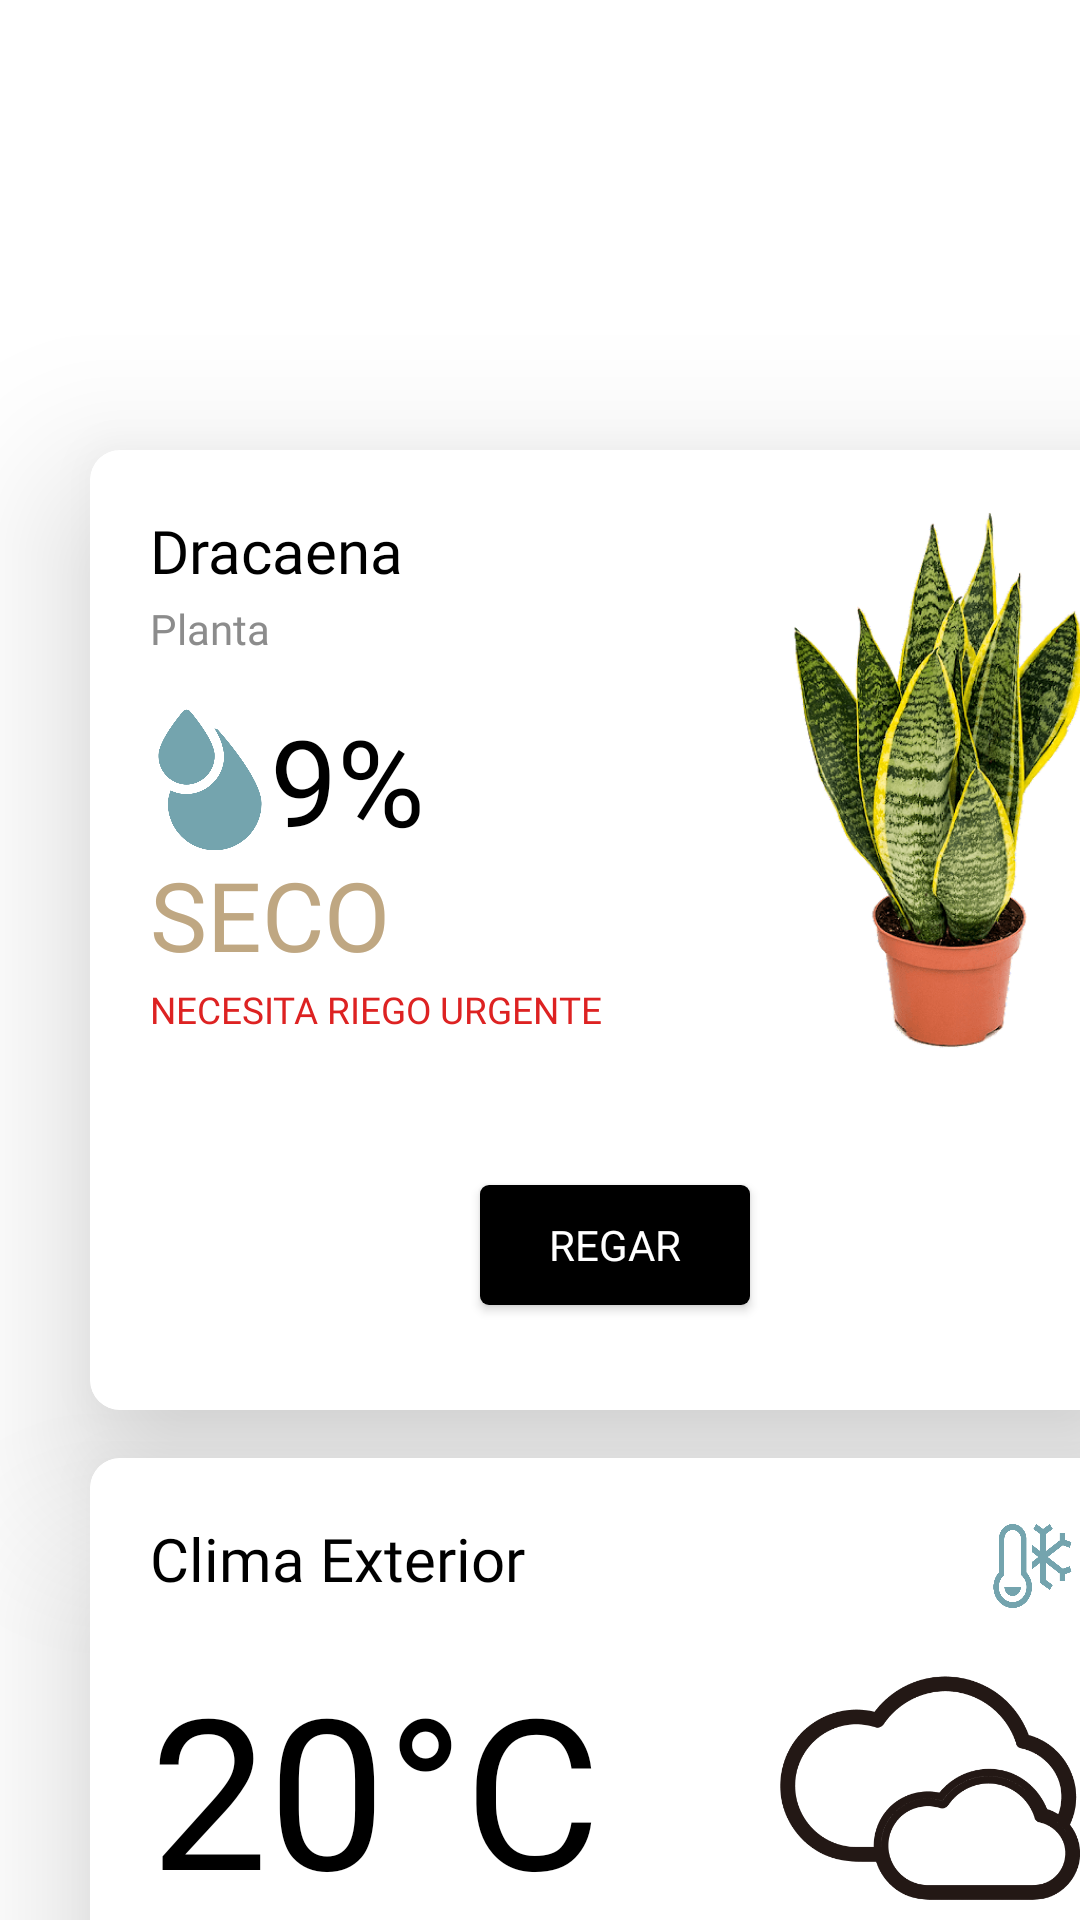

Screen size 1080 × 1920. Icon name, then its box in pixels as bbox=(x1, y1, x2, y2):
clima: bbox=(993, 1524, 1071, 1608)
gotas: bbox=(158, 709, 262, 850)
nube: bbox=(780, 1676, 1080, 1900)
